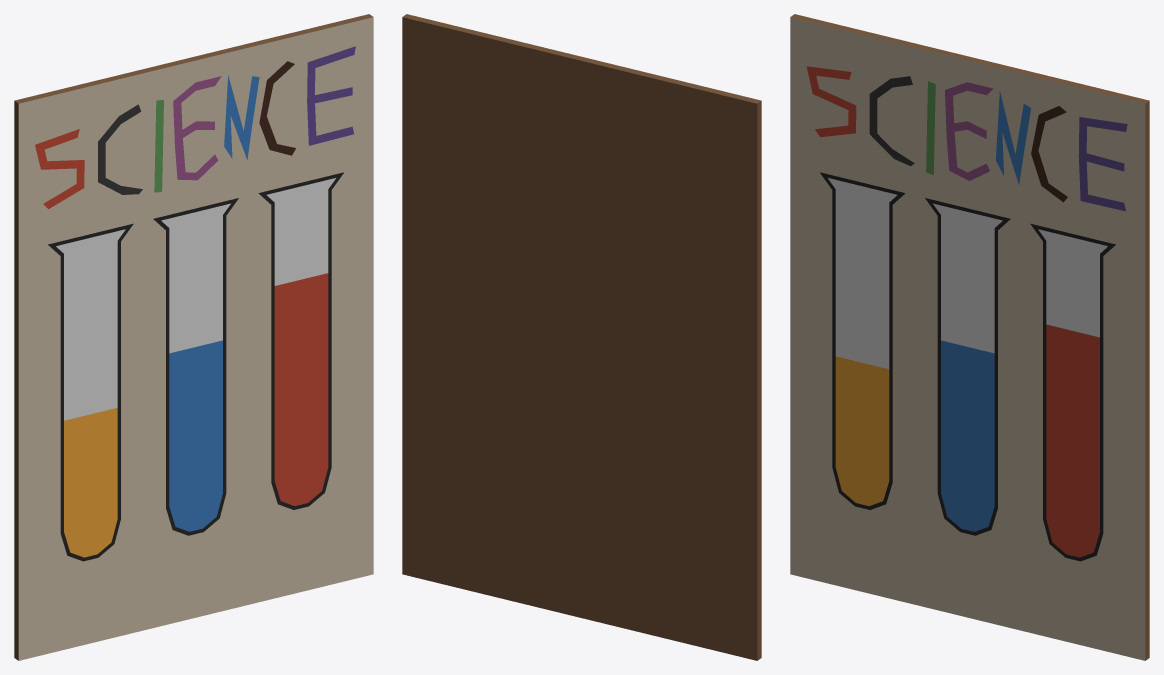
File: Int_SciencePoster01.fbx
The picture shows the model from 3 angles, left to right: view 1: azimuth 30°, elevation 25°; view 2: azimuth 150°, elevation 25°; view 3: azimuth 330°, elevation 25°; orthographic projection.
Parts seen in each view (by area): view 1: Int_SciencePoster01; view 2: Int_SciencePoster01; view 3: Int_SciencePoster01.
Part boxes in pixels (x1,y1,x2,y2): Int_SciencePoster01: (14, 14, 373, 660); Int_SciencePoster01: (402, 14, 761, 660); Int_SciencePoster01: (790, 14, 1149, 660).
Size of what is drawn, in the model's own units: 100 by 2.1 by 150.
